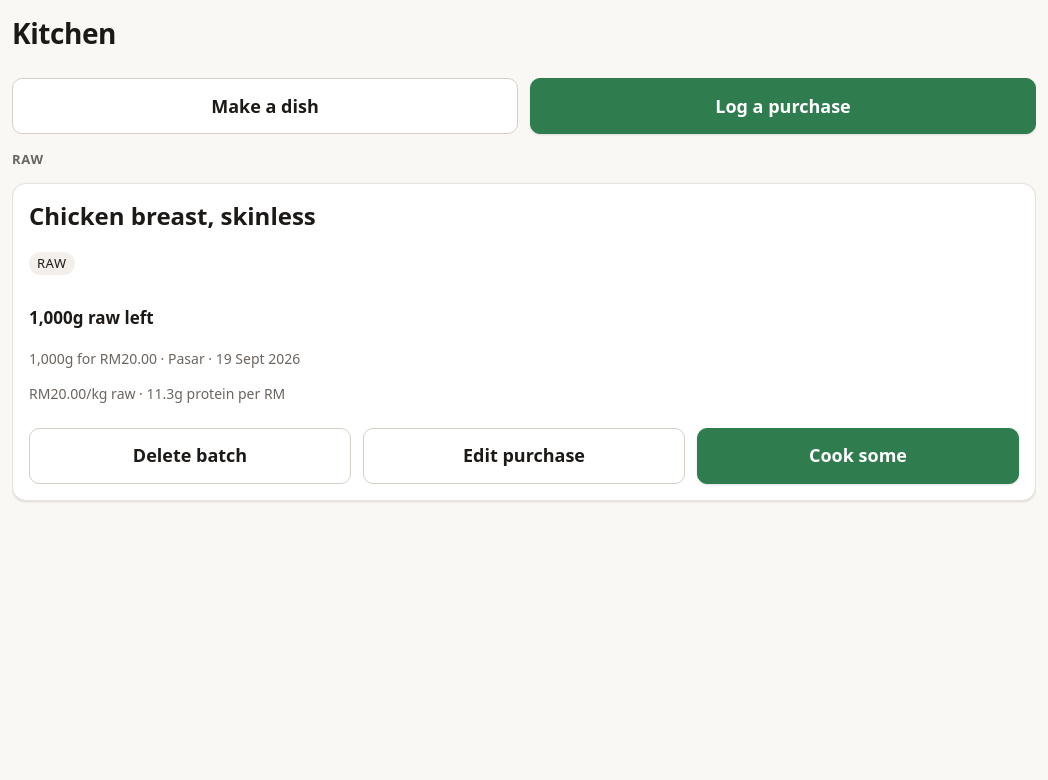
Test: KitchenScreen › opens the cook form from a raw batch
Check: the text "Raw" is shown, box [29, 252, 74, 275]
Click the button "Cook some".
click(858, 456)  # box [697, 428, 1019, 484]
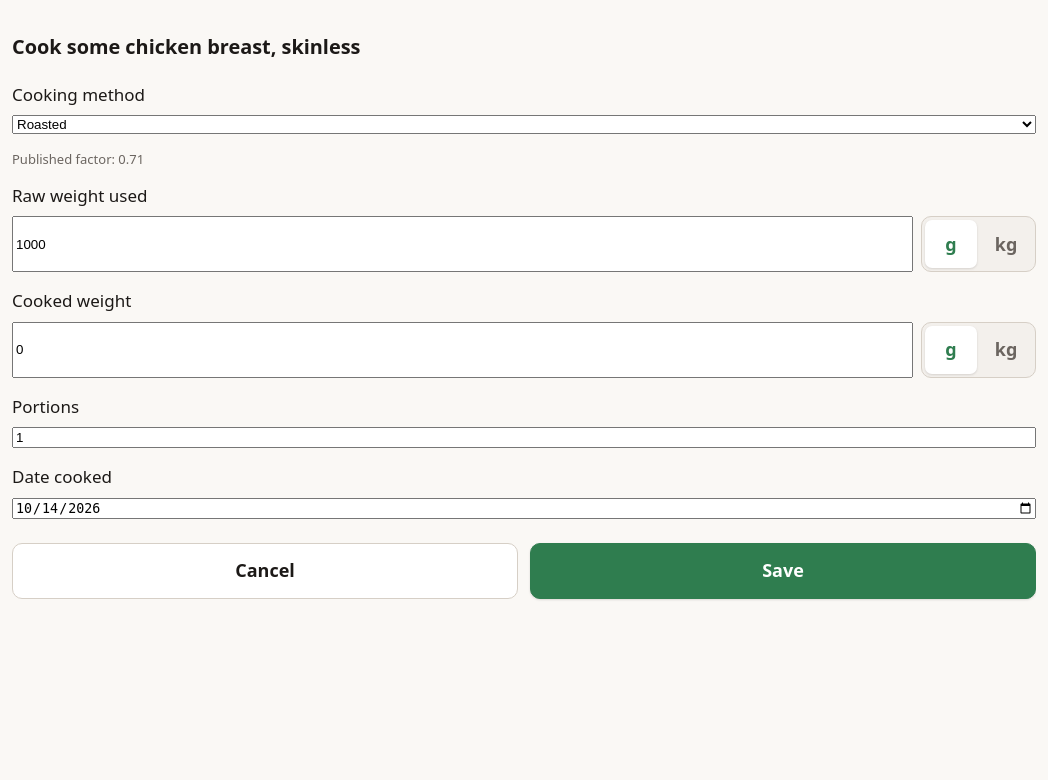
Check: the number field labelled "Raw weight used" is shown, box [12, 216, 913, 272]
